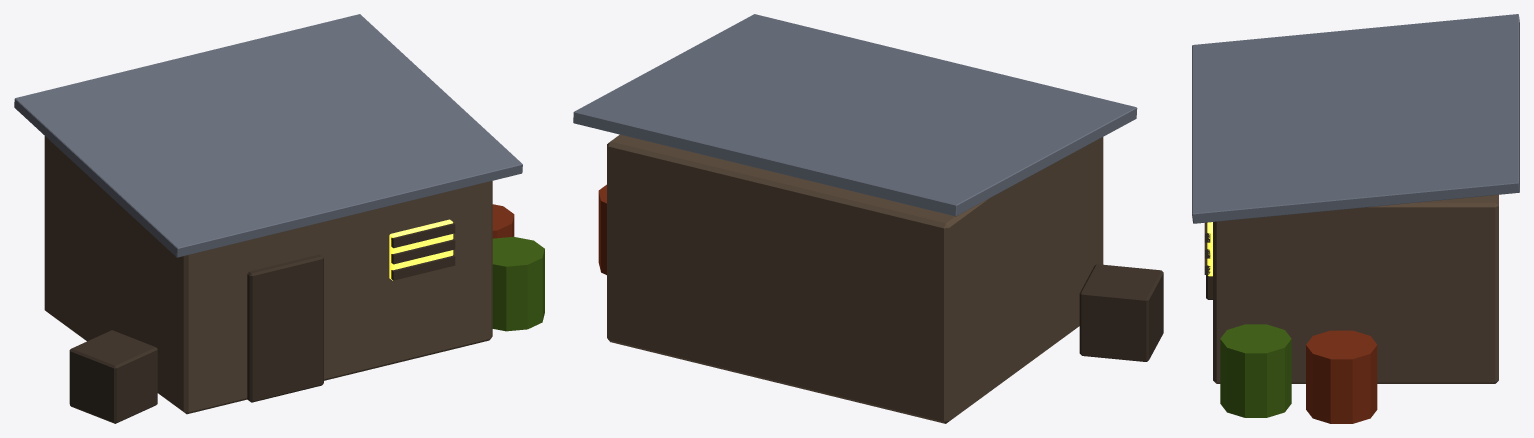
Rendered from shack.glb.
3 views of the same model, side by side, from view 1: azimuth 30°, elevation 25°; view 2: azimuth 150°, elevation 25°; view 3: azimuth 270°, elevation 25° (orthographic). The views are drawn at different scales.
Parts seen in each view (by area): view 1: g_m_6b7280, g_m_5b4a3a, g_m_3f3328, g_m_3f6212, g_m_fde68a_e, g_m_7c2d12; view 2: g_m_5b4a3a, g_m_6b7280, g_m_3f3328, g_m_7c2d12; view 3: g_m_6b7280, g_m_5b4a3a, g_m_3f6212, g_m_7c2d12, g_m_3f3328.
Part boxes in pixels (x1,y1,x2,y2): g_m_6b7280: (14, 14, 522, 257); g_m_5b4a3a: (44, 136, 492, 414); g_m_3f3328: (69, 223, 455, 423); g_m_3f6212: (492, 236, 544, 331); g_m_fde68a_e: (389, 219, 453, 280); g_m_7c2d12: (492, 204, 514, 238); g_m_5b4a3a: (607, 134, 1103, 423); g_m_6b7280: (573, 14, 1137, 216); g_m_3f3328: (1079, 264, 1163, 361); g_m_7c2d12: (598, 184, 606, 274); g_m_6b7280: (1192, 14, 1519, 223); g_m_5b4a3a: (1213, 194, 1498, 383); g_m_3f6212: (1220, 324, 1291, 417); g_m_7c2d12: (1306, 330, 1377, 423); g_m_3f3328: (1204, 222, 1212, 299).
Size of the model in its own units: 7.53 by 3.27 by 4.59.
